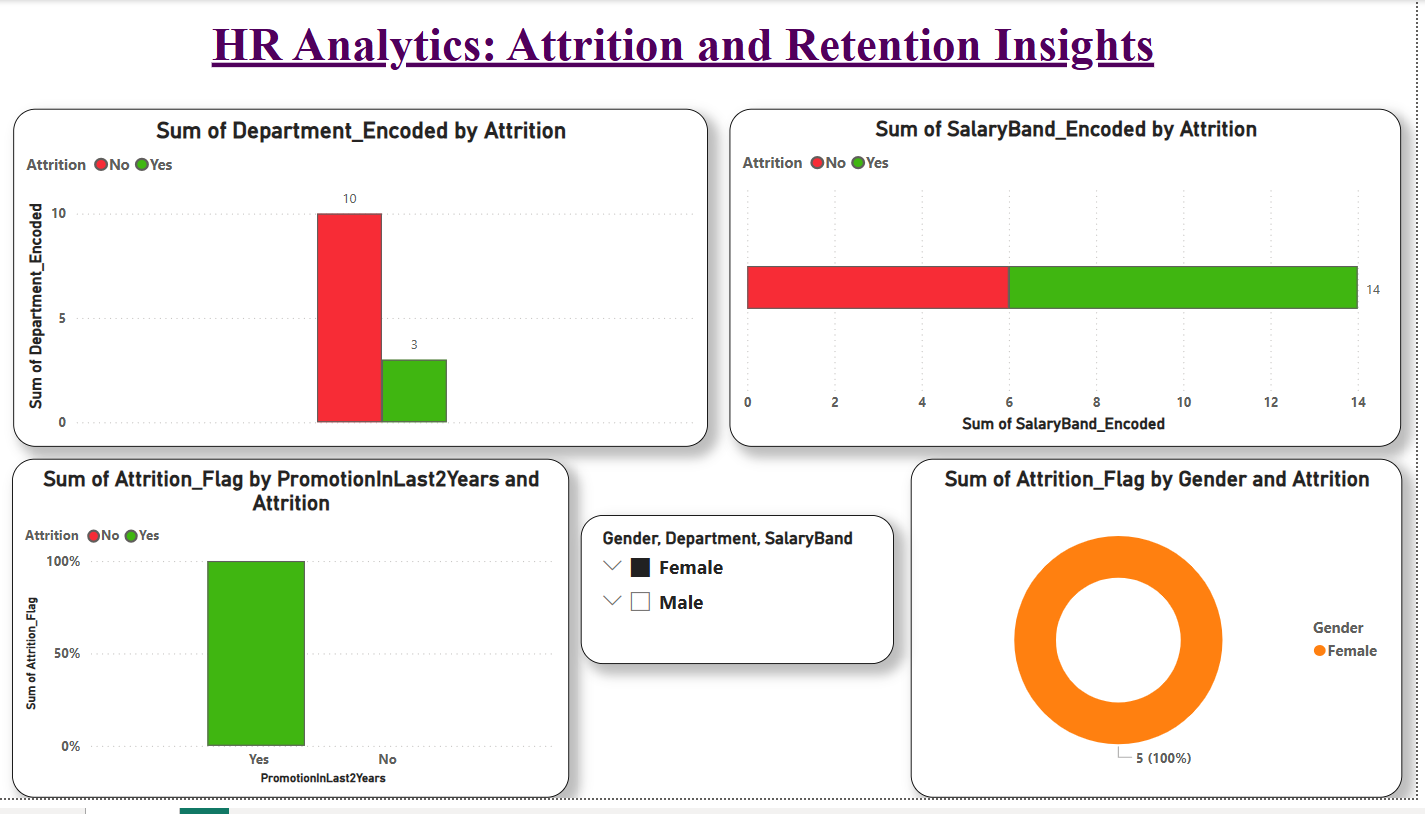

This screenshot's page, from the dashboard's own definition file:
{"tool":"powerbi","page":{"name":"Page 1","canvas":[1280,720],"ordinal":0},"visuals":[{"type":"clusteredColumnChart","fields":{"Y":["Sum(processed_hr_data.Department_Encoded)"],"Series":["processed_hr_data.Attrition"]},"box":[14.4,98.1,626.2,304.4],"z":0},{"type":"barChart","fields":{"Series":["processed_hr_data.Attrition"],"Y":["Sum(processed_hr_data.SalaryBand_Encoded)"]},"box":[660.8,98.1,606,304.4],"z":1000},{"type":"hundredPercentStackedColumnChart","fields":{"Category":["processed_hr_data.PromotionInLast2Years"],"Y":["Sum(processed_hr_data.Attrition_Flag)"],"Series":["processed_hr_data.Attrition"]},"box":[13,414.1,502.1,305.9],"z":3000},{"type":"donutChart","fields":{"Category":["processed_hr_data.Gender"],"Series":["processed_hr_data.Attrition"],"Y":["Sum(processed_hr_data.Attrition_Flag)"]},"box":[823.8,414.1,442.9,305.9],"z":3001},{"type":"slicer","fields":{"Values":["processed_hr_data.Gender","processed_hr_data.Department","processed_hr_data.SalaryBand"]},"box":[526.6,464.6,282.8,134.2],"z":3002},{"type":"textbox","box":[79.4,10.1,1079.2,69.3],"z":3003}]}

Visuals, with their boxes in screenshot pixels (x1, y1, x2, y2), scaled from the page's 1280x720 canvas onto the 1425x814 screenshot:
clusteredColumnChart - Sum(processed_hr_data.Department_Encoded) x processed_hr_data.Attrition: [left=16, top=111, right=713, bottom=455]
barChart - processed_hr_data.Attrition x Sum(processed_hr_data.SalaryBand_Encoded): [left=736, top=111, right=1410, bottom=455]
hundredPercentStackedColumnChart - processed_hr_data.PromotionInLast2Years x Sum(processed_hr_data.Attrition_Flag): [left=14, top=468, right=573, bottom=813]
donutChart - processed_hr_data.Gender x processed_hr_data.Attrition: [left=917, top=468, right=1410, bottom=813]
slicer - processed_hr_data.Gender x processed_hr_data.Department: [left=586, top=525, right=901, bottom=677]
textbox: [left=88, top=11, right=1290, bottom=90]
